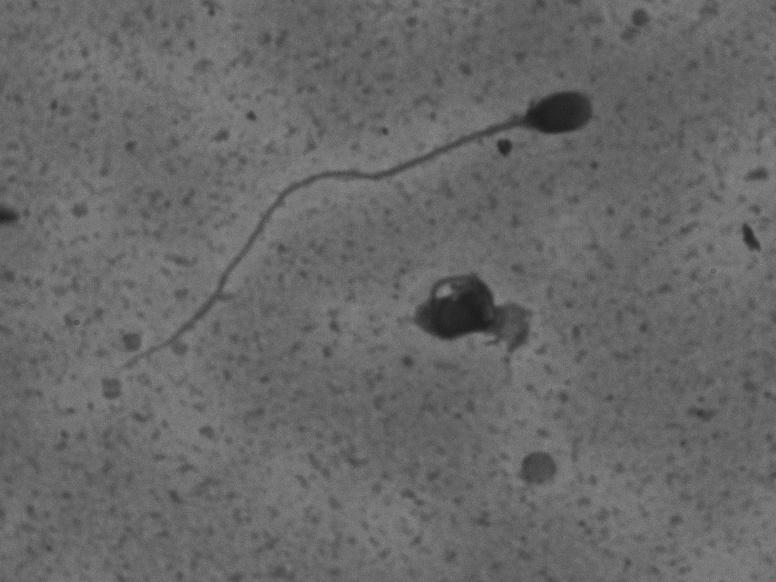Abnormal: (366, 241, 577, 387)
Normal: (92, 81, 602, 384)
